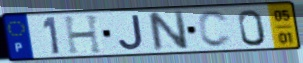0: (236, 8, 268, 48)
1: (40, 16, 62, 57)
C: (196, 9, 233, 49)
H: (62, 13, 105, 56)
J: (117, 14, 146, 52)
N: (145, 9, 191, 53)
